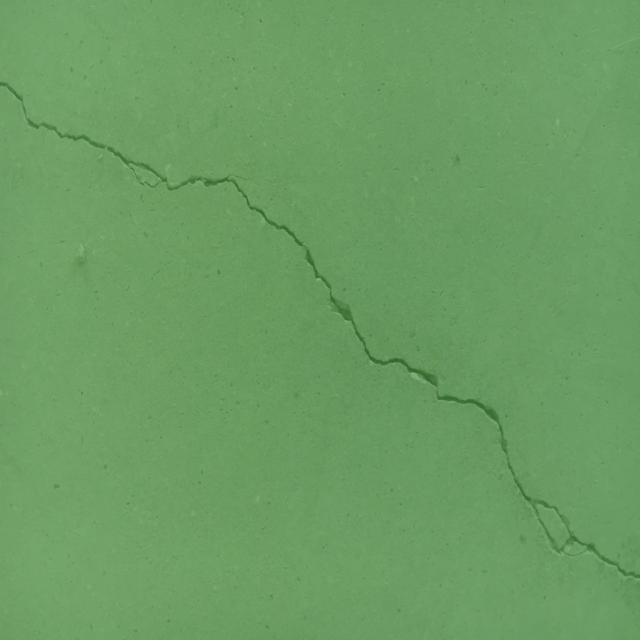crack: (0, 81, 640, 581)
